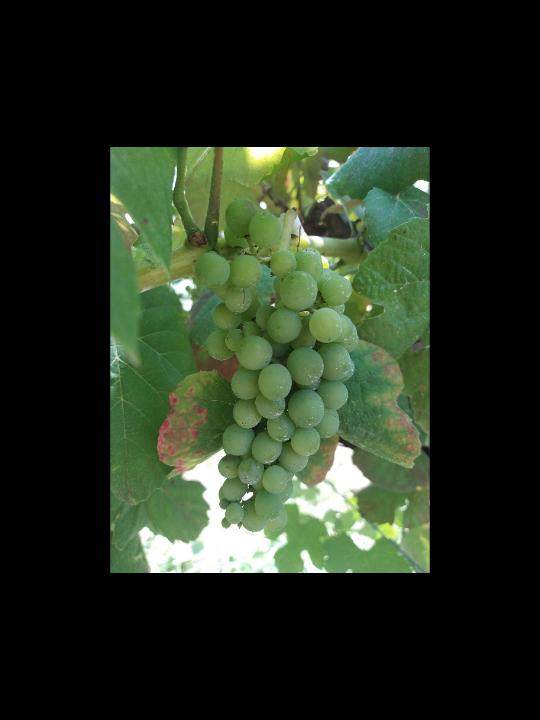grape: (191, 196, 360, 537)
